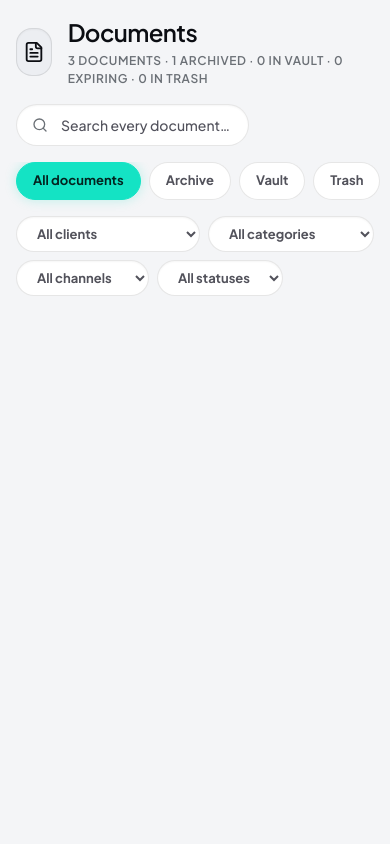
Test: an empty Trash teaches what it is for, rather than saying "nothing here"
What coordinates should you click on to do the following:
click the button "Trash"
I would click on:
 (347, 181)
Its box is [313,162,380,200].
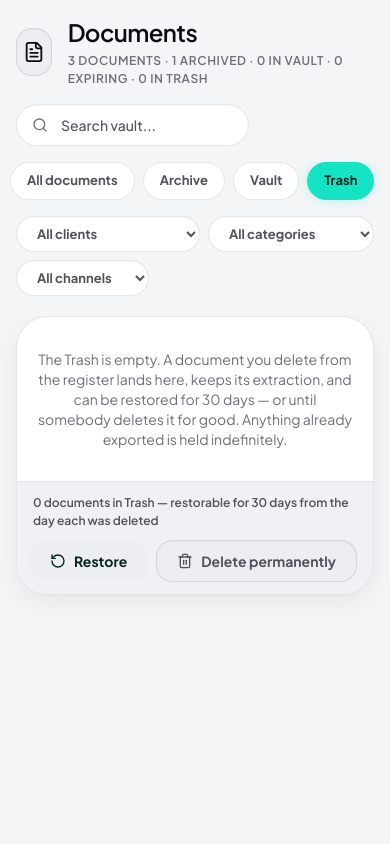
Now the text "already exported is held indefinitely" is shown, box [38,350,352,448]
